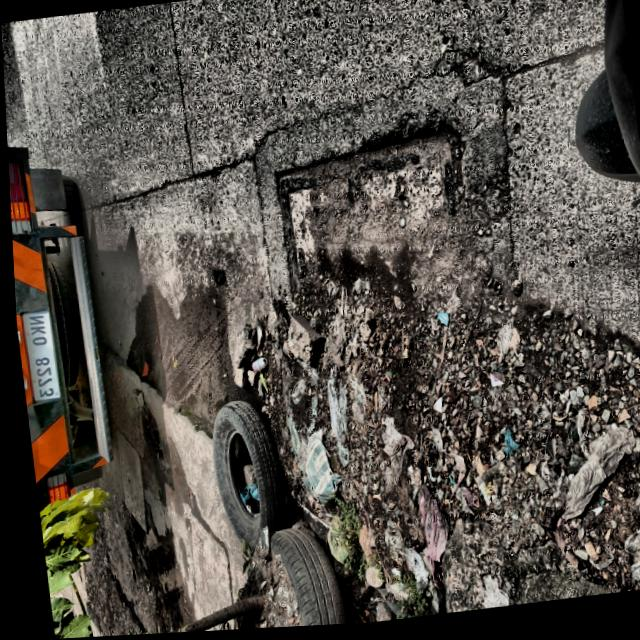clogged_drains: (279, 129, 512, 548)
